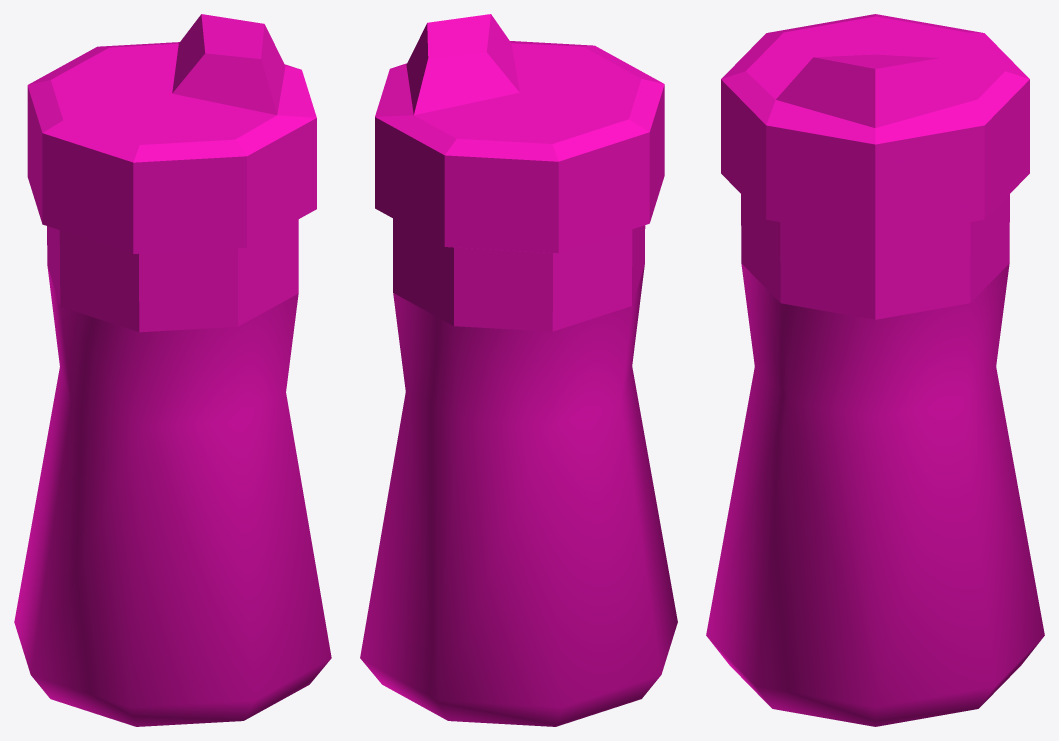
File: study_drink_bottle_2_meshCollider.fbx
3 renders of one model, left to right at view 1: azimuth 30°, elevation 25°; view 2: azimuth 150°, elevation 25°; view 3: azimuth 270°, elevation 25°, orthographic. The views are drawn at different scales.
Visible parts, largest first — view 1: study_drink_bottle_2_meshCollider; view 2: study_drink_bottle_2_meshCollider; view 3: study_drink_bottle_2_meshCollider.
Boxes of the visible parts, x1,y1,x2,y2 form: study_drink_bottle_2_meshCollider: [14, 14, 331, 726]; study_drink_bottle_2_meshCollider: [360, 14, 677, 726]; study_drink_bottle_2_meshCollider: [706, 14, 1044, 726].
Size of the model in its own units: 8.87 by 18.54 by 8.87.
